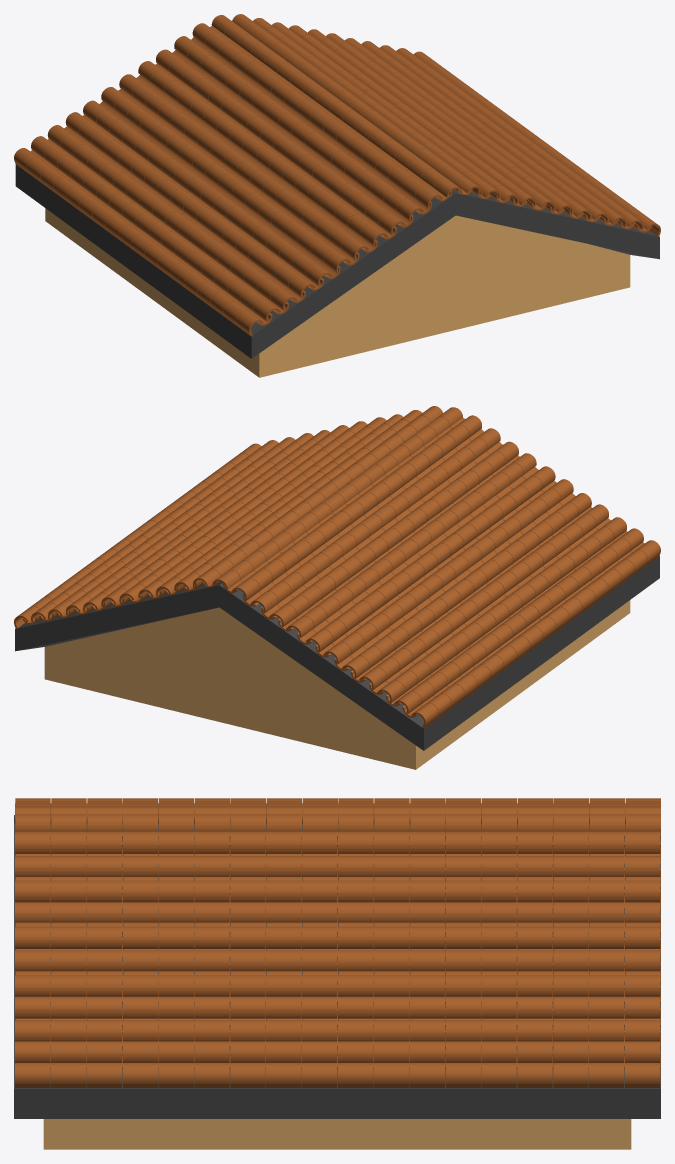
File: buildingTop2.fbx
3 renders of one model, top to bottom at view 1: azimuth 30°, elevation 25°; view 2: azimuth 150°, elevation 25°; view 3: azimuth 270°, elevation 25°, orthographic. The views are drawn at different scales.
Parts seen in each view (by area): view 1: roof2; view 2: roof2; view 3: roof2.
Part boxes in pixels (x1,y1,x2,y2): roof2: (14,14,660,377); roof2: (14,406,660,769); roof2: (14,798,660,1149).
Size of the model in its own units: 111 by 39.36 by 110.
